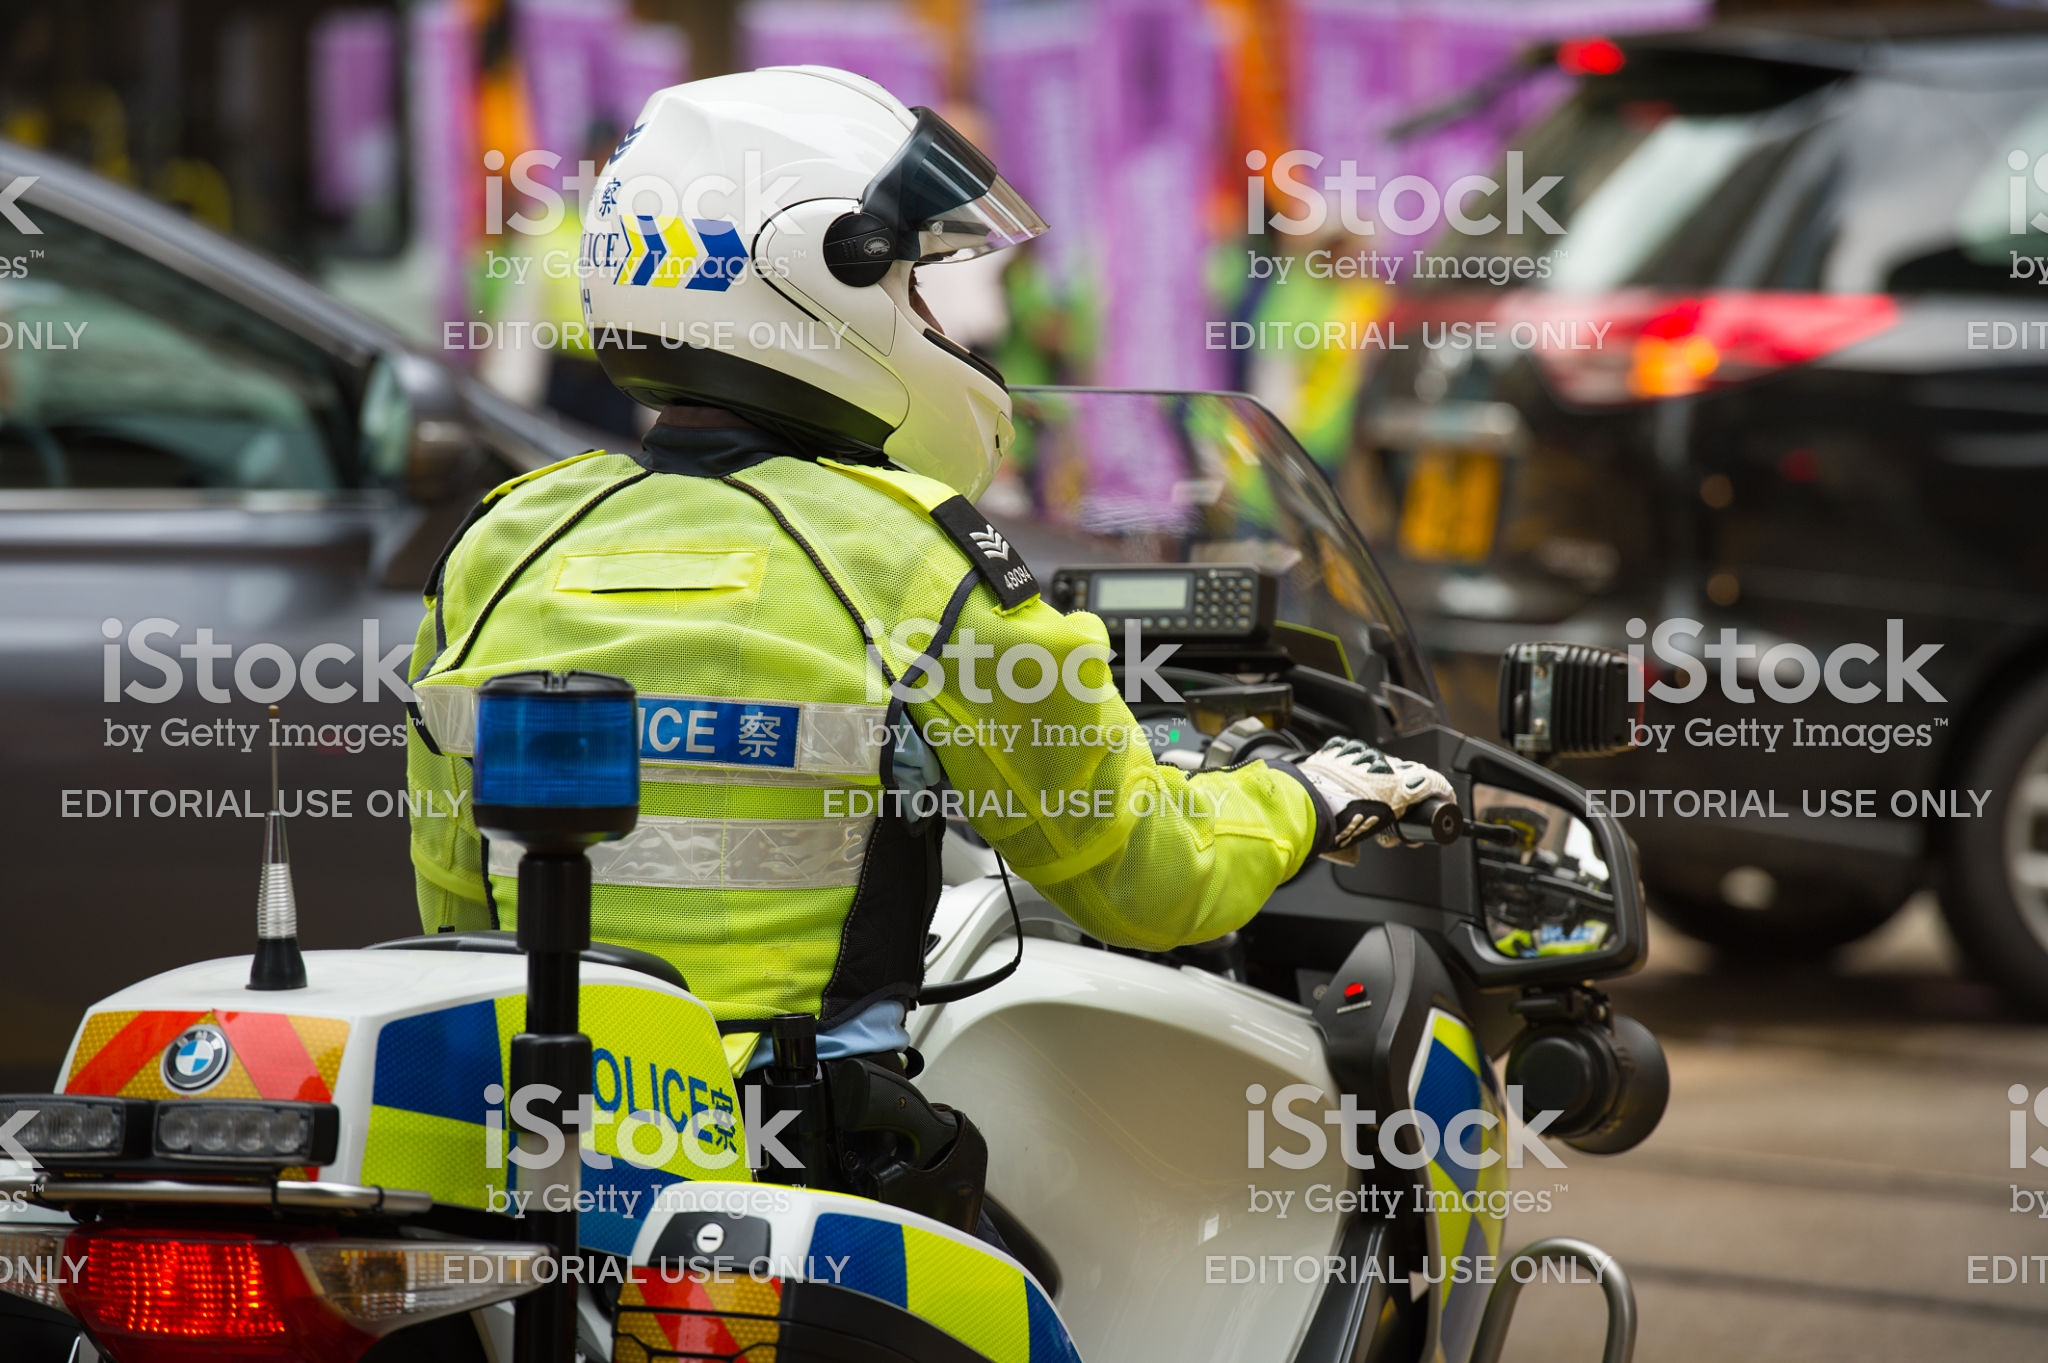helmet: (552, 49, 1045, 514)
